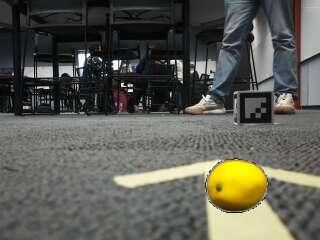lemon: (208, 161, 265, 212)
